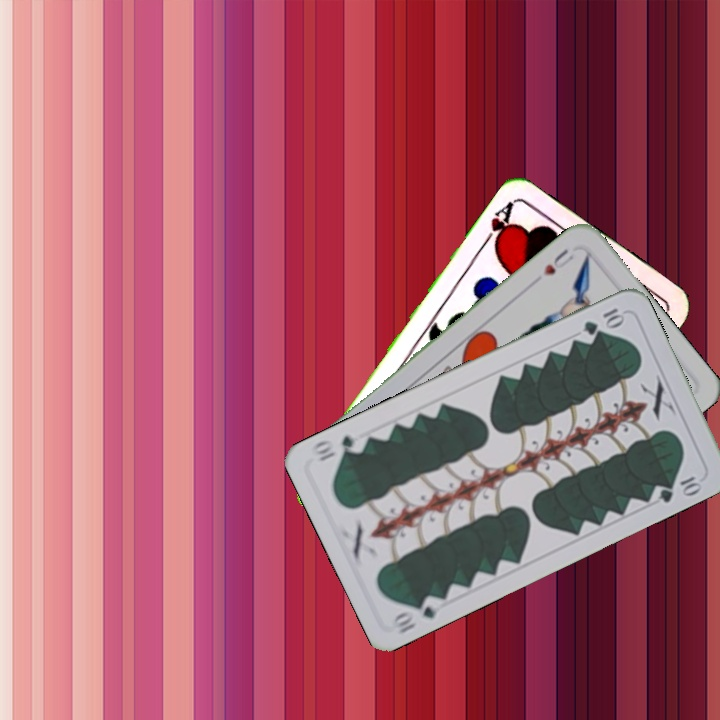G10: (389, 591, 446, 637), (579, 304, 628, 338)
HA: (479, 196, 518, 254)
HU: (539, 244, 577, 278)
